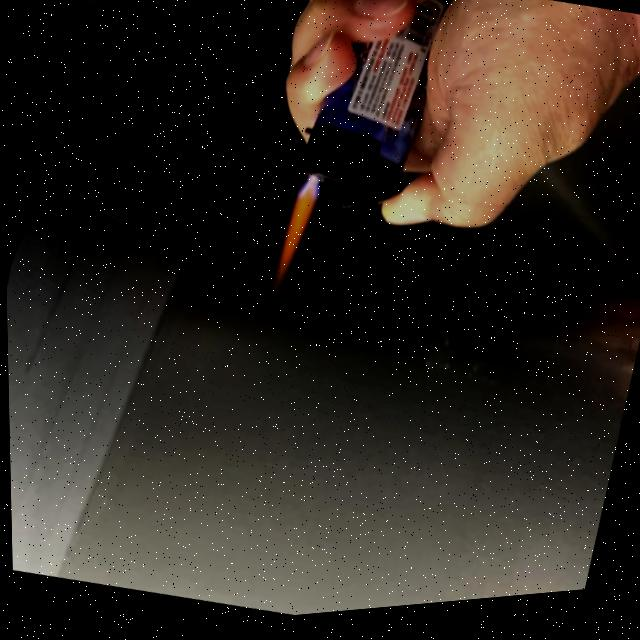Fire: (267, 180, 326, 298)
